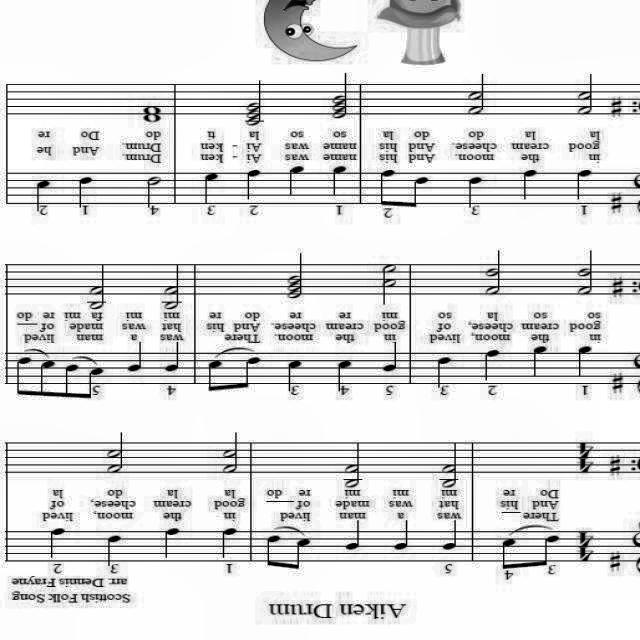Bass-clef: (630, 448, 640, 476), (631, 269, 640, 299), (631, 89, 640, 118), (639, 269, 640, 299), (639, 89, 640, 118)
Diez: (606, 548, 624, 574), (608, 454, 624, 478), (610, 274, 626, 298), (608, 192, 624, 216), (608, 96, 624, 120), (611, 372, 625, 394)
Eighth-note: (226, 355, 264, 393), (524, 535, 560, 569), (401, 175, 434, 209), (282, 538, 314, 570), (76, 368, 108, 400), (499, 536, 527, 572), (30, 360, 54, 400), (14, 357, 38, 397), (264, 534, 288, 572), (206, 359, 230, 393), (55, 365, 79, 399), (377, 168, 395, 206)
Full-note: (140, 105, 163, 124)
Half-note: (481, 246, 505, 298), (338, 440, 362, 490), (102, 428, 126, 476), (329, 70, 351, 121), (378, 261, 402, 307), (88, 261, 109, 313), (438, 442, 460, 490), (217, 430, 241, 474), (161, 260, 181, 312), (244, 76, 264, 128), (576, 248, 596, 296), (286, 250, 304, 302), (575, 72, 595, 116), (468, 72, 488, 116)
Quarter-note: (114, 340, 144, 372), (218, 526, 240, 560), (574, 344, 594, 380), (334, 358, 354, 394), (161, 526, 183, 558), (440, 518, 460, 552), (482, 349, 502, 383), (520, 167, 540, 201), (465, 175, 485, 209), (286, 165, 306, 199), (104, 534, 125, 566), (343, 520, 363, 552), (46, 528, 66, 560), (380, 340, 400, 372), (575, 168, 595, 200), (531, 344, 549, 378), (202, 171, 220, 205), (163, 342, 183, 372), (394, 518, 411, 552), (285, 360, 303, 392), (331, 166, 349, 198), (245, 168, 263, 200), (77, 176, 95, 208), (33, 180, 51, 212), (433, 357, 451, 388)
Treble-clef: (632, 340, 640, 400), (632, 519, 640, 577), (632, 161, 640, 217)
